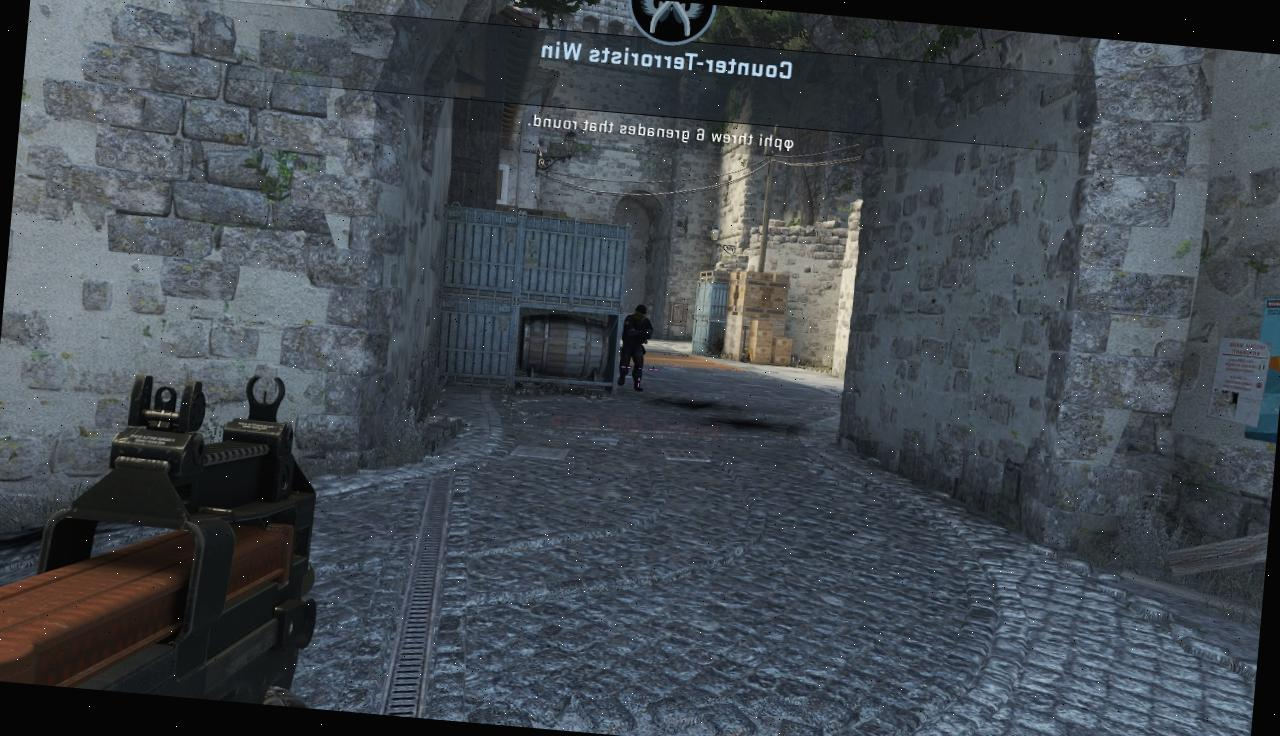ct: (617, 304, 652, 392)
cthead: (632, 306, 648, 322), (633, 306, 647, 322)
rifle: (0, 348, 332, 703)
